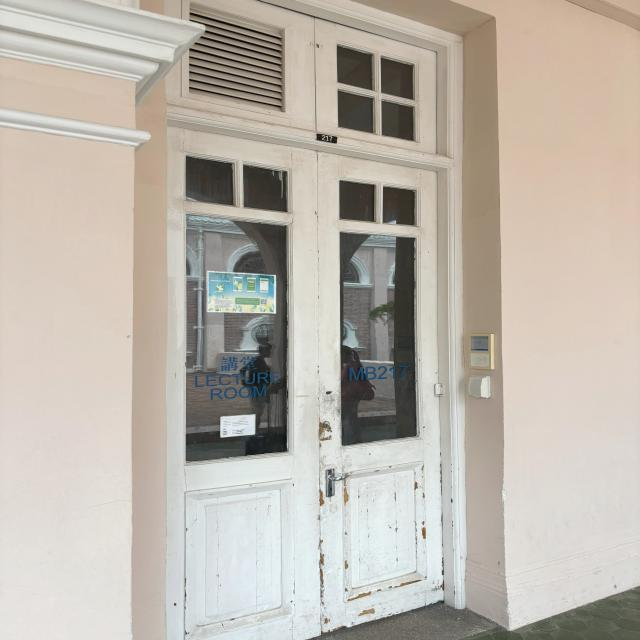MB217_roomNumber: (308, 128, 342, 149)
MB217_wordsOnWindow: (346, 362, 409, 384)
pillar: (3, 103, 154, 640)
